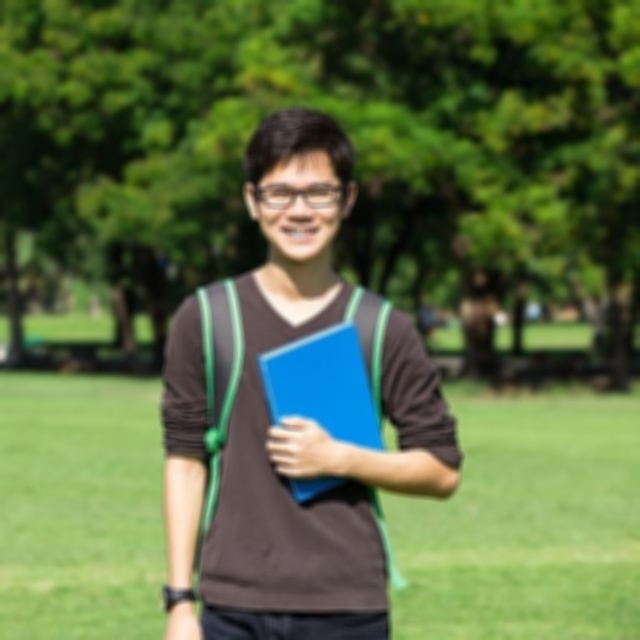Sin_Casco_Mascarrilla: (243, 108, 358, 260)
Sin_Chaleco: (180, 266, 400, 599)
